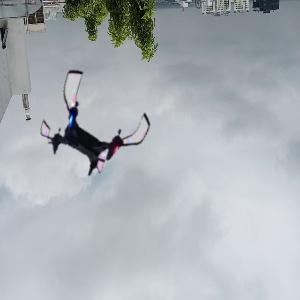drone: (42, 73, 152, 183)
